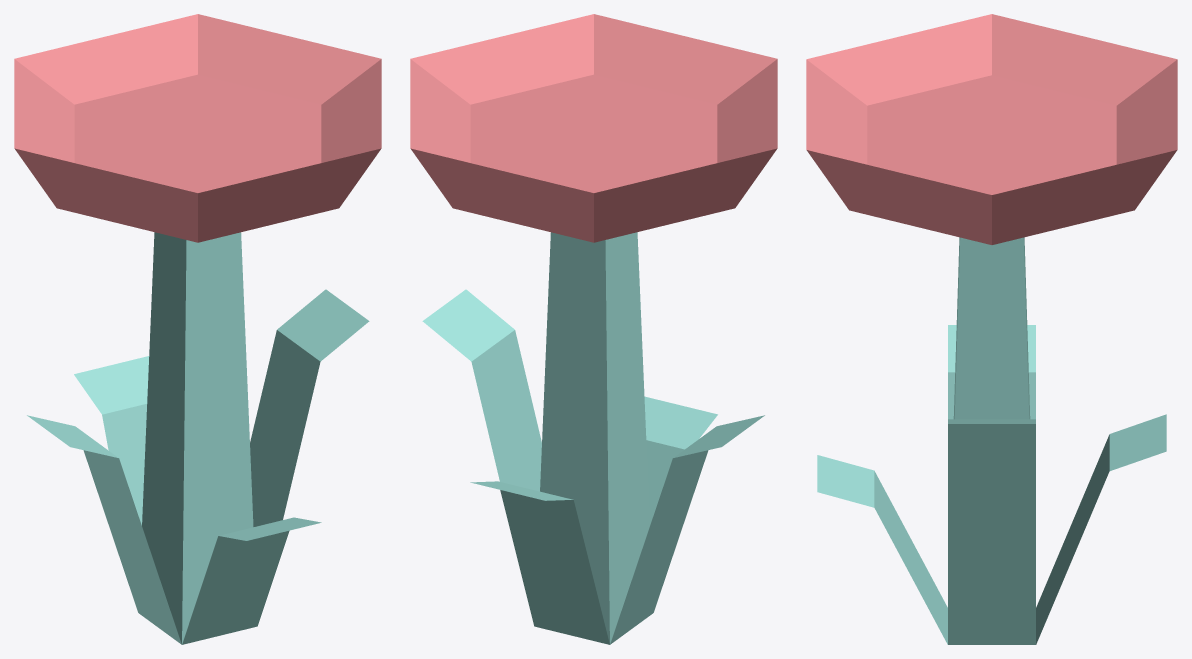
File: flower_red3.glb
3 renders of one model, left to right at view 1: azimuth 30°, elevation 25°; view 2: azimuth 150°, elevation 25°; view 3: azimuth 270°, elevation 25°, orthographic.
Parts seen in each view (by area): view 1: flower_red3; view 2: flower_red3; view 3: flower_red3.
Part boxes in pixels (x1=…): flower_red3: x1=14, y1=14, x2=381, y2=644; flower_red3: x1=410, y1=14, x2=777, y2=644; flower_red3: x1=806, y1=14, x2=1177, y2=644.
Size of the model in its own units: 0.1513 by 0.2032 by 0.131.
